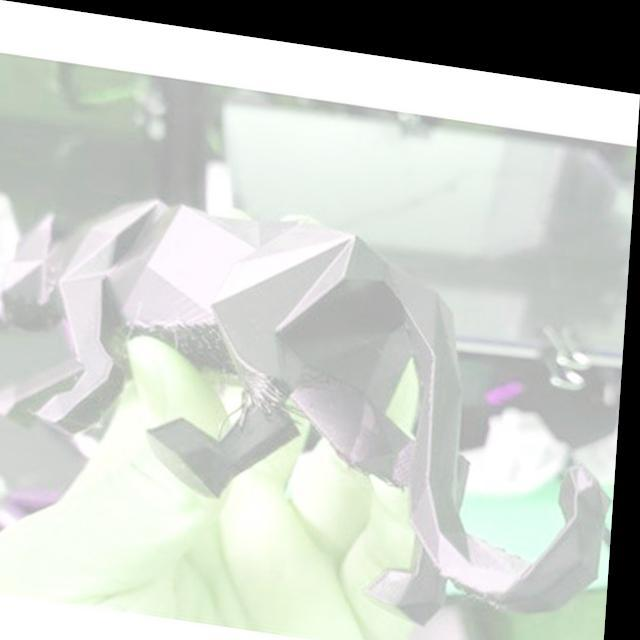spaghetti: (221, 354, 316, 437)
